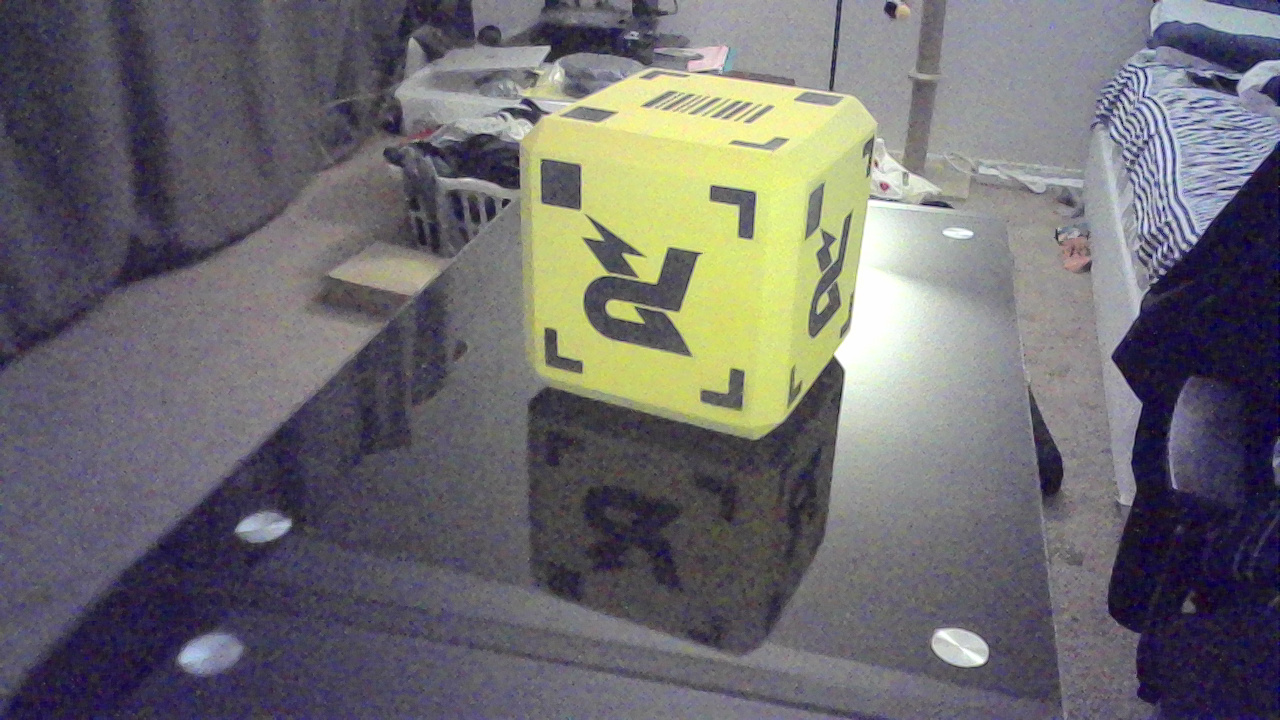Barcode: (640, 86, 785, 136)
R: (586, 228, 711, 360), (805, 215, 860, 345)
